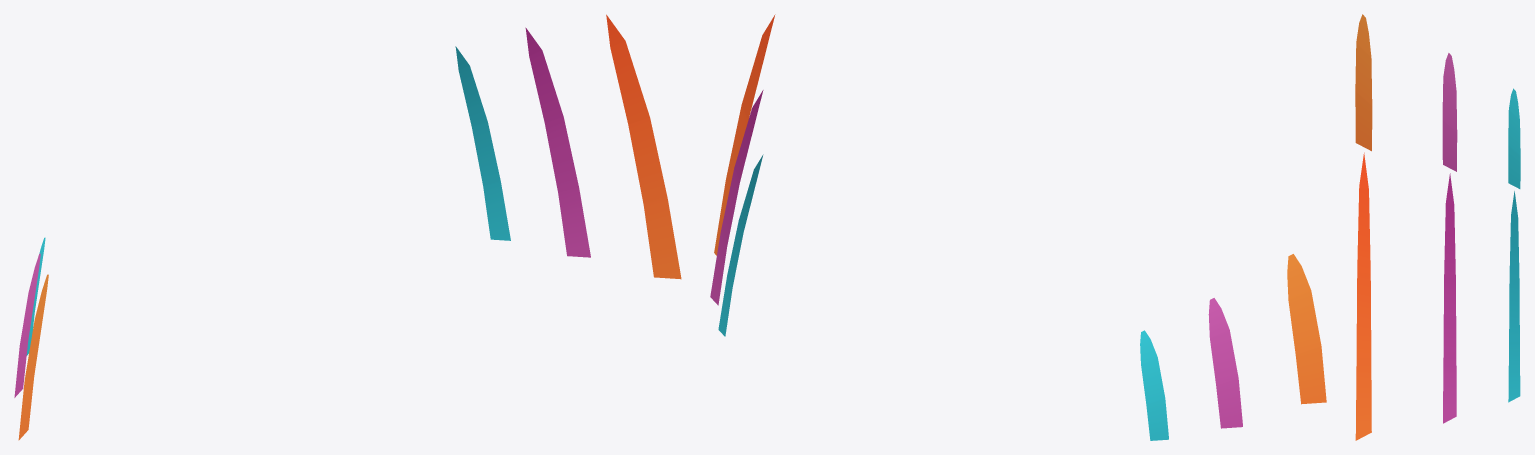
The model's file is terraza_luz-001.gltf.
3 views of the same model, side by side, from view 1: azimuth 30°, elevation 25°; view 2: azimuth 150°, elevation 25°; view 3: azimuth 270°, elevation 25° (orthographic). The views are drawn at different scales.
Visible parts, largest first — view 1: Efecto_Luz-f.001; view 2: Efecto_Luz-f.001; view 3: Efecto_Luz-f.001.
Part boxes in pixels (x1,y1,x2,y2): Efecto_Luz-f.001: (14,14,681,440); Efecto_Luz-f.001: (710,14,1326,440); Efecto_Luz-f.001: (1355,14,1520,440).
Bounding box in the file's own units: 11.83 × 4.8 × 2.77.
Materials: 1 (1 with a texture image).
